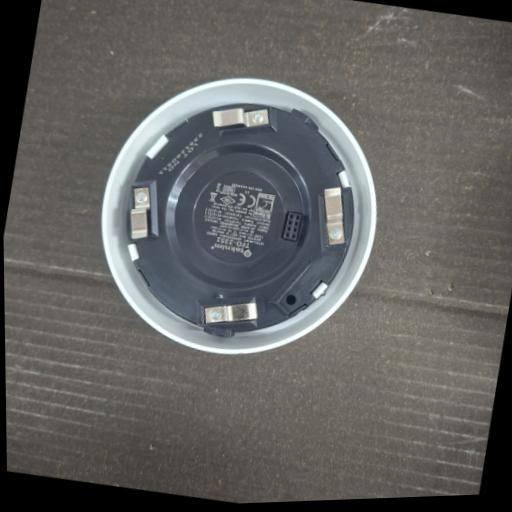yaysiz: (307, 179, 360, 259), (191, 285, 265, 340), (123, 175, 169, 245), (207, 98, 272, 138)
